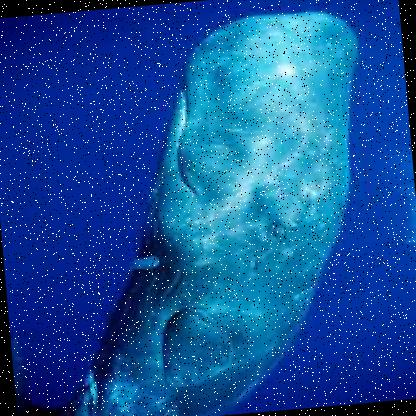blue_whale: (13, 2, 393, 415)
